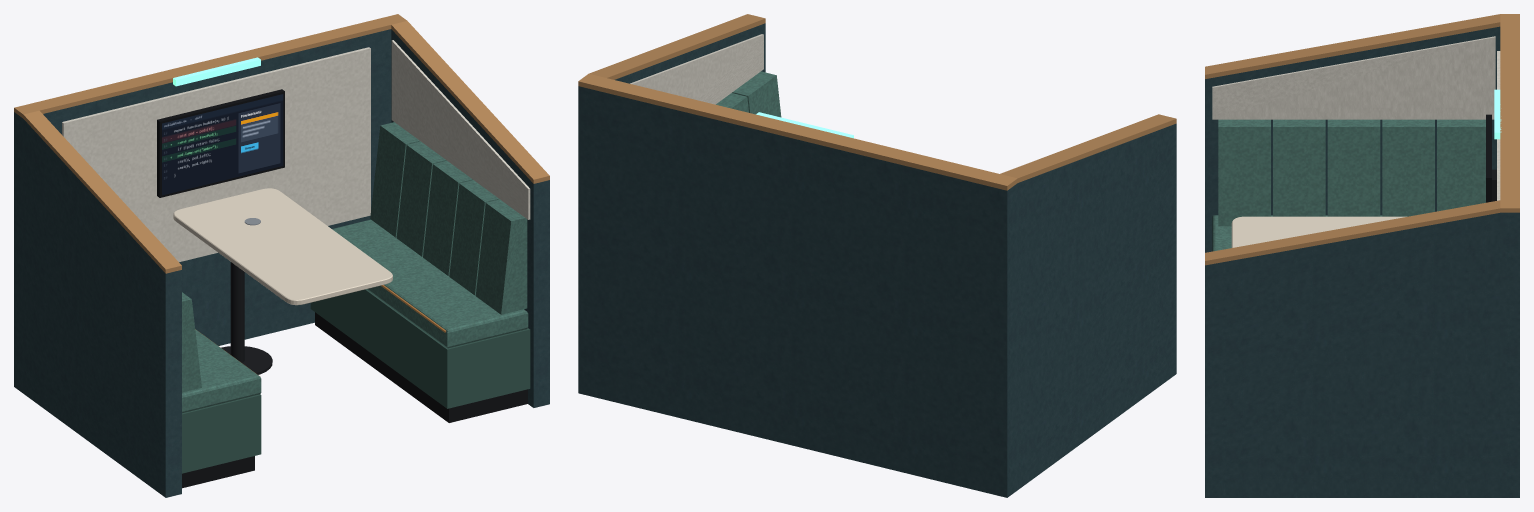
File: Office_Collab_Diner_Pod.glb
The picture shows the model from 3 angles, left to right: view 1: azimuth 30°, elevation 25°; view 2: azimuth 150°, elevation 25°; view 3: azimuth 270°, elevation 25°; orthographic projection. The views are drawn at different scales.
Parts seen in each view (by area): view 1: Side_Wing_Felt_L, Rear_Lining_Oatmeal, Rear_Wall_Felt, Table_Top_Bleached_Oak, Bench_Base_R, Seat_Cushion_R, Monitor_27_Display, Upper_Lining_R, Side_Wing_Felt_R, Backrest_Channel_R_5, Rear_Wall_Oak_Cap, Bench_Base_L (+14 smaller); view 2: Rear_Wall_Felt, Side_Wing_Felt_L, Rear_Wall_Oak_Cap, Upper_Lining_R, Side_Wing_Oak_Cap_L, Side_Wing_Oak_Cap_R, Side_Wing_Felt_R, Backrest_Channel_R_5; view 3: Side_Wing_Felt_R, Upper_Lining_L, Side_Wing_Felt_L, Rear_Wall_Felt, Backrest_Channel_L_5, Backrest_Channel_L_3, Backrest_Channel_L_4, Backrest_Channel_L_2, Backrest_Channel_L_1, Rear_Wall_Oak_Cap, Side_Wing_Oak_Cap_R, Side_Wing_Oak_Cap_L (+5 smaller).
Boxes of the visible parts, bbox=[...] form: Side_Wing_Felt_L: bbox=[23, 119, 181, 497]; Rear_Lining_Oatmeal: bbox=[62, 47, 370, 262]; Rear_Wall_Felt: bbox=[14, 29, 391, 393]; Table_Top_Bleached_Oak: bbox=[173, 188, 392, 305]; Bench_Base_R: bbox=[310, 289, 530, 408]; Seat_Cushion_R: bbox=[332, 219, 528, 348]; Monitor_27_Display: bbox=[162, 94, 283, 195]; Upper_Lining_R: bbox=[391, 40, 530, 219]; Side_Wing_Felt_R: bbox=[391, 29, 549, 407]; Backrest_Channel_R_5: bbox=[475, 199, 527, 314]; Rear_Wall_Oak_Cap: bbox=[14, 14, 407, 118]; Bench_Base_L: bbox=[182, 394, 261, 473]; Rear_Wall_Felt: bbox=[578, 86, 1017, 497]; Side_Wing_Felt_L: bbox=[1017, 123, 1176, 489]; Rear_Wall_Oak_Cap: bbox=[578, 73, 1017, 190]; Upper_Lining_R: bbox=[630, 34, 763, 104]; Side_Wing_Oak_Cap_L: bbox=[1000, 114, 1176, 182]; Side_Wing_Oak_Cap_R: bbox=[589, 14, 765, 79]; Side_Wing_Felt_R: bbox=[615, 23, 765, 83]; Backrest_Channel_R_5: bbox=[732, 71, 781, 117]; Side_Wing_Felt_R: bbox=[1205, 213, 1500, 497]; Upper_Lining_L: bbox=[1212, 36, 1495, 119]; Side_Wing_Felt_L: bbox=[1205, 26, 1500, 252]; Rear_Wall_Felt: bbox=[1500, 212, 1519, 497]; Backrest_Channel_L_5: bbox=[1218, 119, 1270, 226]; Backrest_Channel_L_3: bbox=[1327, 119, 1380, 216]; Backrest_Channel_L_4: bbox=[1273, 119, 1325, 216]; Backrest_Channel_L_2: bbox=[1382, 119, 1434, 216]; Backrest_Channel_L_1: bbox=[1437, 119, 1485, 211]; Rear_Wall_Oak_Cap: bbox=[1500, 14, 1519, 212]; Side_Wing_Oak_Cap_R: bbox=[1205, 200, 1500, 265]; Side_Wing_Oak_Cap_L: bbox=[1205, 14, 1500, 78].
Bounding box in the file's own units: 1.9 × 1.32 × 1.3.
Materials: 13 (4 with a texture image).
